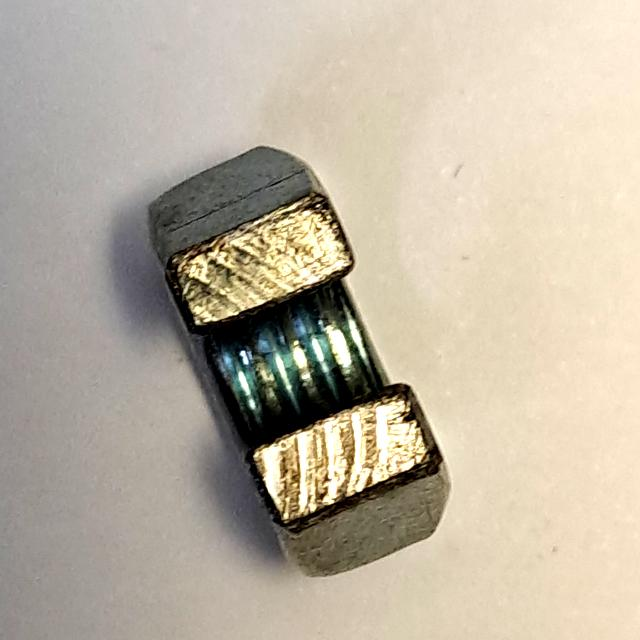Side-Fracture: (136, 130, 463, 599)
